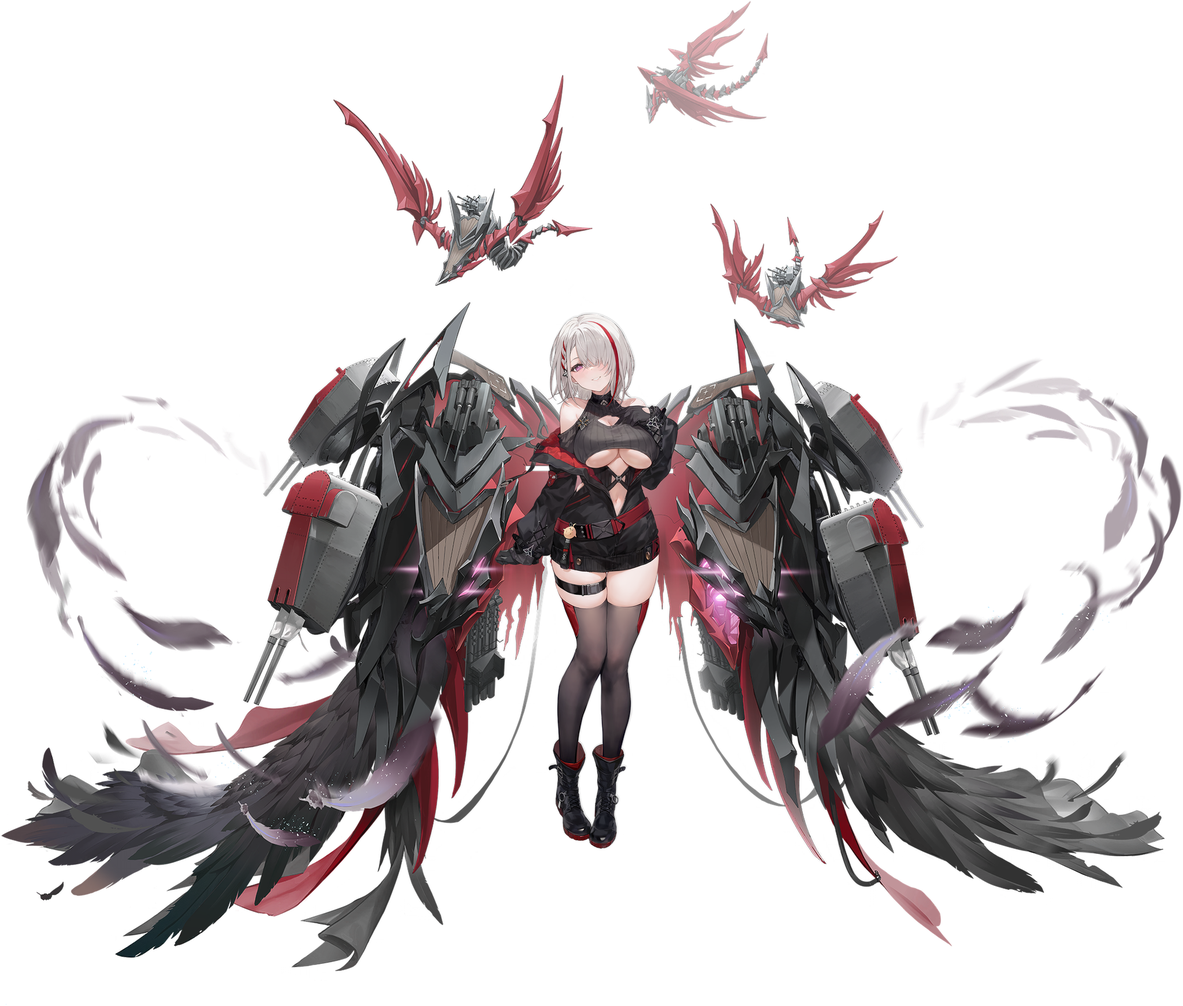person: (682, 165, 1182, 822)
